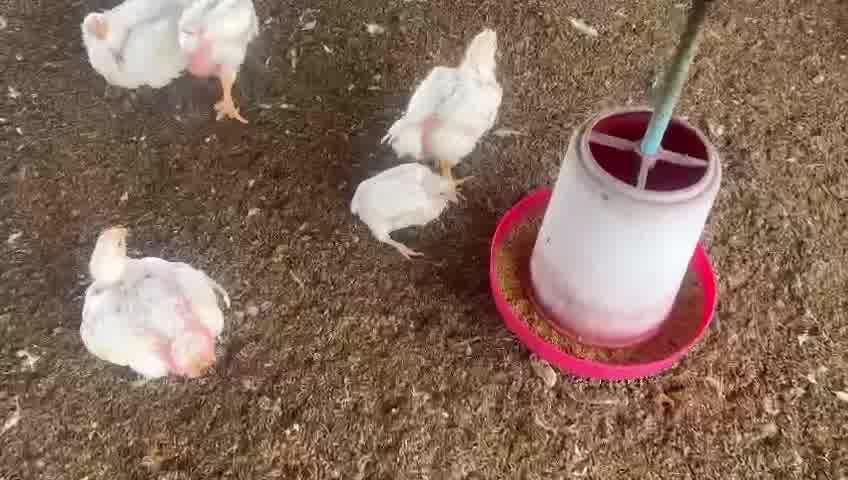AbNormal: (85, 227, 230, 383), (349, 164, 462, 261), (80, 3, 201, 91)
Normal: (385, 29, 501, 169), (178, 0, 257, 122)
